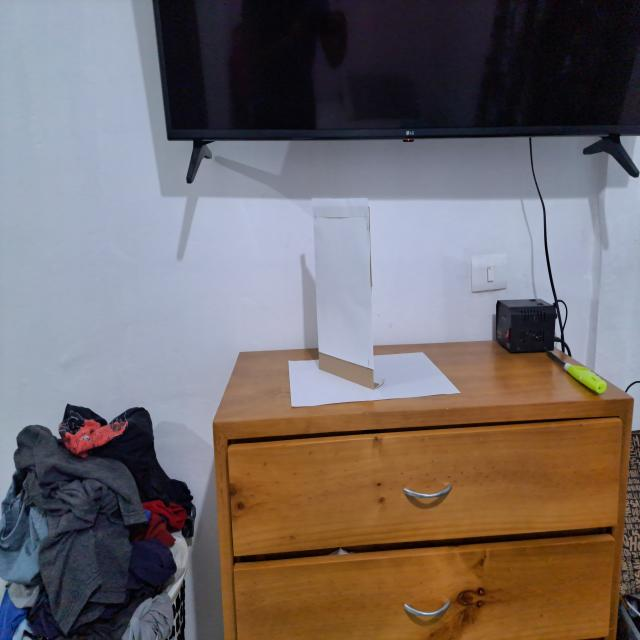wall: (308, 198, 378, 392)
